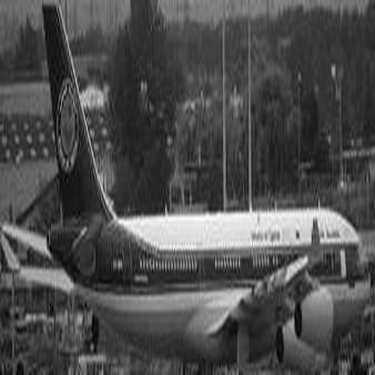airplane: (22, 1, 354, 343)
